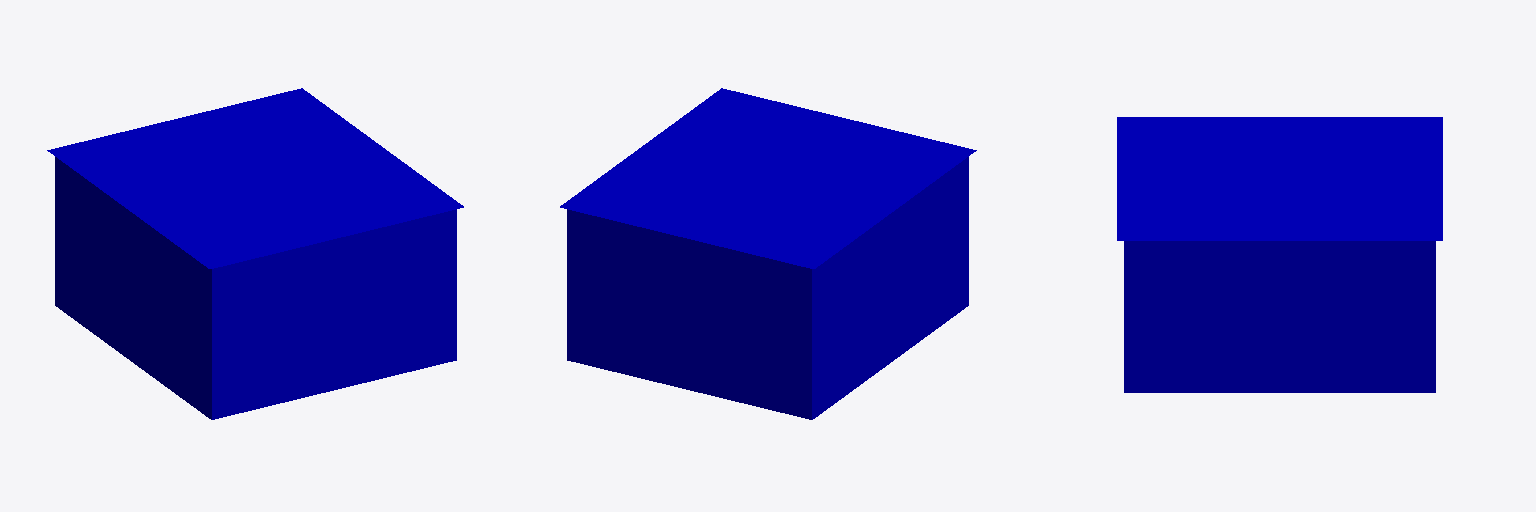
File: blender.obj
3 renders of one model, left to right at view 1: azimuth 30°, elevation 25°; view 2: azimuth 150°, elevation 25°; view 3: azimuth 270°, elevation 25°, orthographic.
Visible parts, largest first — view 1: Cube; view 2: Cube; view 3: Cube.
Part boxes in pixels (bbox=[...]): Cube: bbox=[47, 88, 463, 419]; Cube: bbox=[560, 88, 976, 419]; Cube: bbox=[1117, 117, 1442, 392].
Bounding box in the file's own units: 33.29 × 19.23 × 36.79.